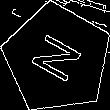N_SE: (25, 28, 89, 88)
